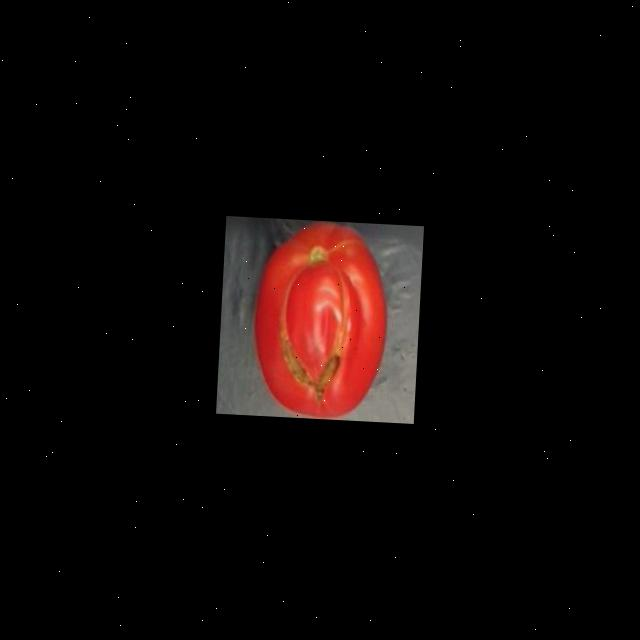tomato: (246, 218, 398, 422)
